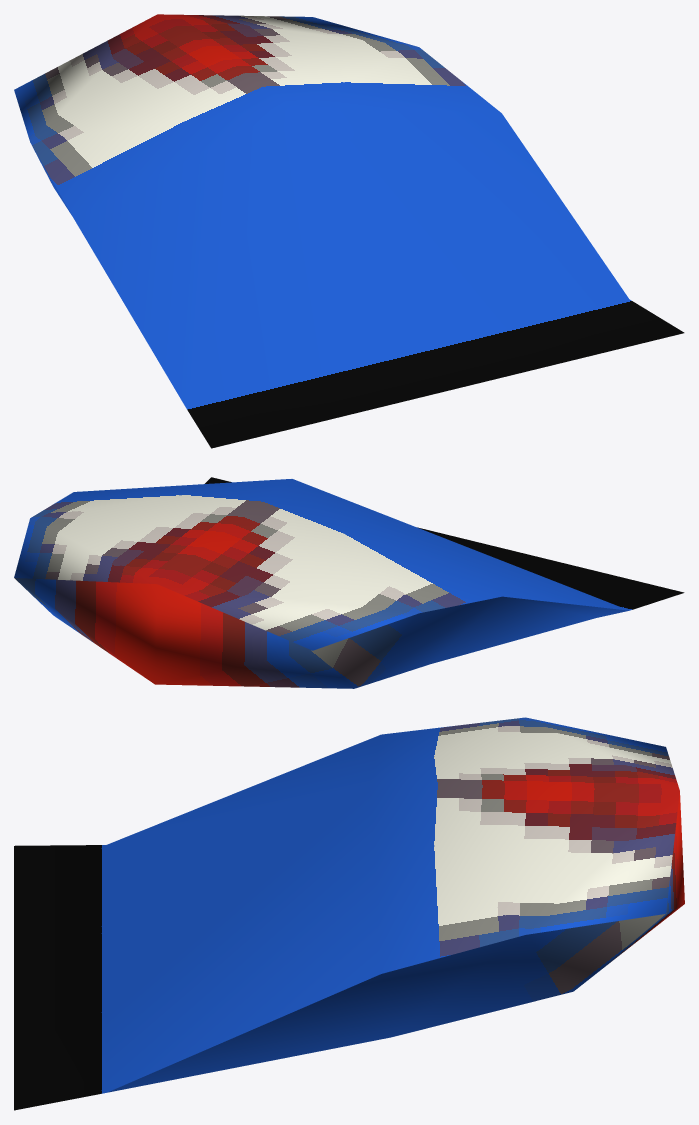
The picture shows the model from 3 angles, top to bottom: view 1: azimuth 30°, elevation 25°; view 2: azimuth 150°, elevation 25°; view 3: azimuth 270°, elevation 25°; orthographic projection. The views are drawn at different scales.
Parts seen in each view (by area): view 1: 5483uc_cl_top; view 2: 5483uc_cl_top; view 3: 5483uc_cl_top.
Part boxes in pixels (left/top/right/bottom): 5483uc_cl_top: left=14, top=14, right=684, bottom=448; 5483uc_cl_top: left=14, top=477, right=684, bottom=688; 5483uc_cl_top: left=14, top=717, right=684, bottom=1110.
Bounding box in the file's own units: 0.7598 × 0.2607 × 0.814.
1 material, 1 textured.
